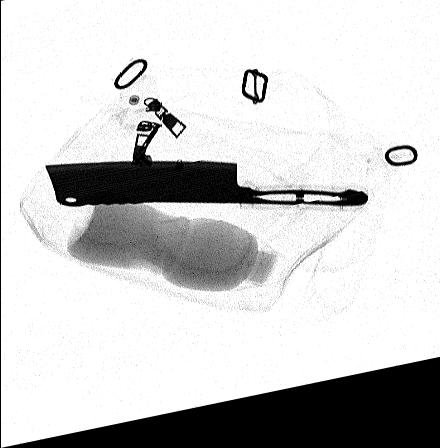Knife: (45, 165, 369, 227)
